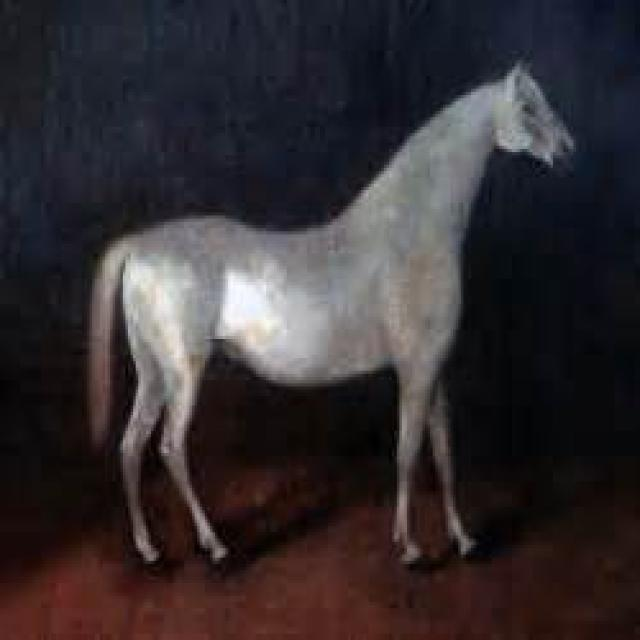animal: (96, 65, 580, 571)
